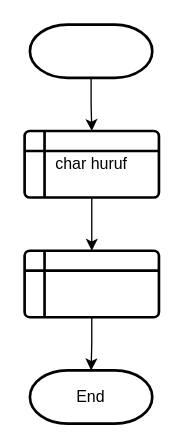
Some shapes in this 182 by 447 pixel diagram are drawn without their labels. Each missing label, with the centre of its shape:
Node *next: point 91,283
struct Node: point 90,50
